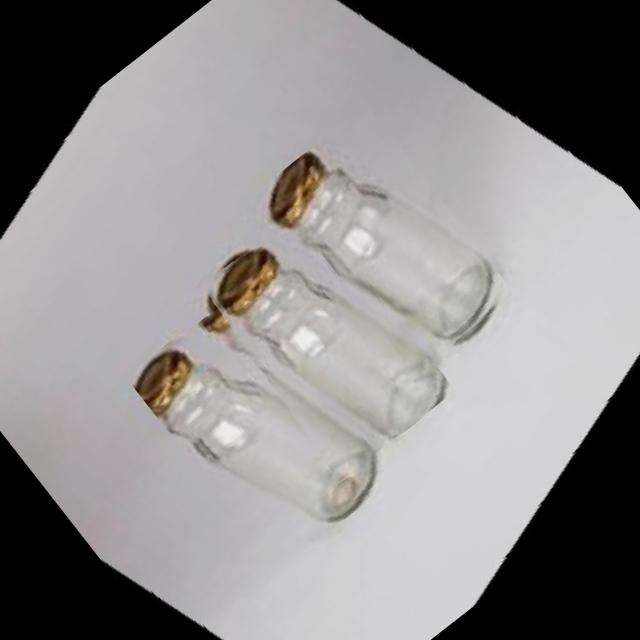Glass: (248, 103, 520, 391), (125, 282, 396, 570), (190, 198, 456, 480)
